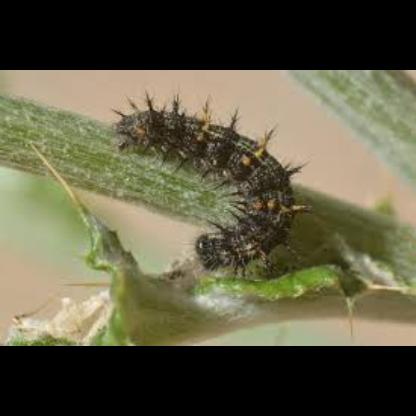oruga: (121, 88, 294, 278)
